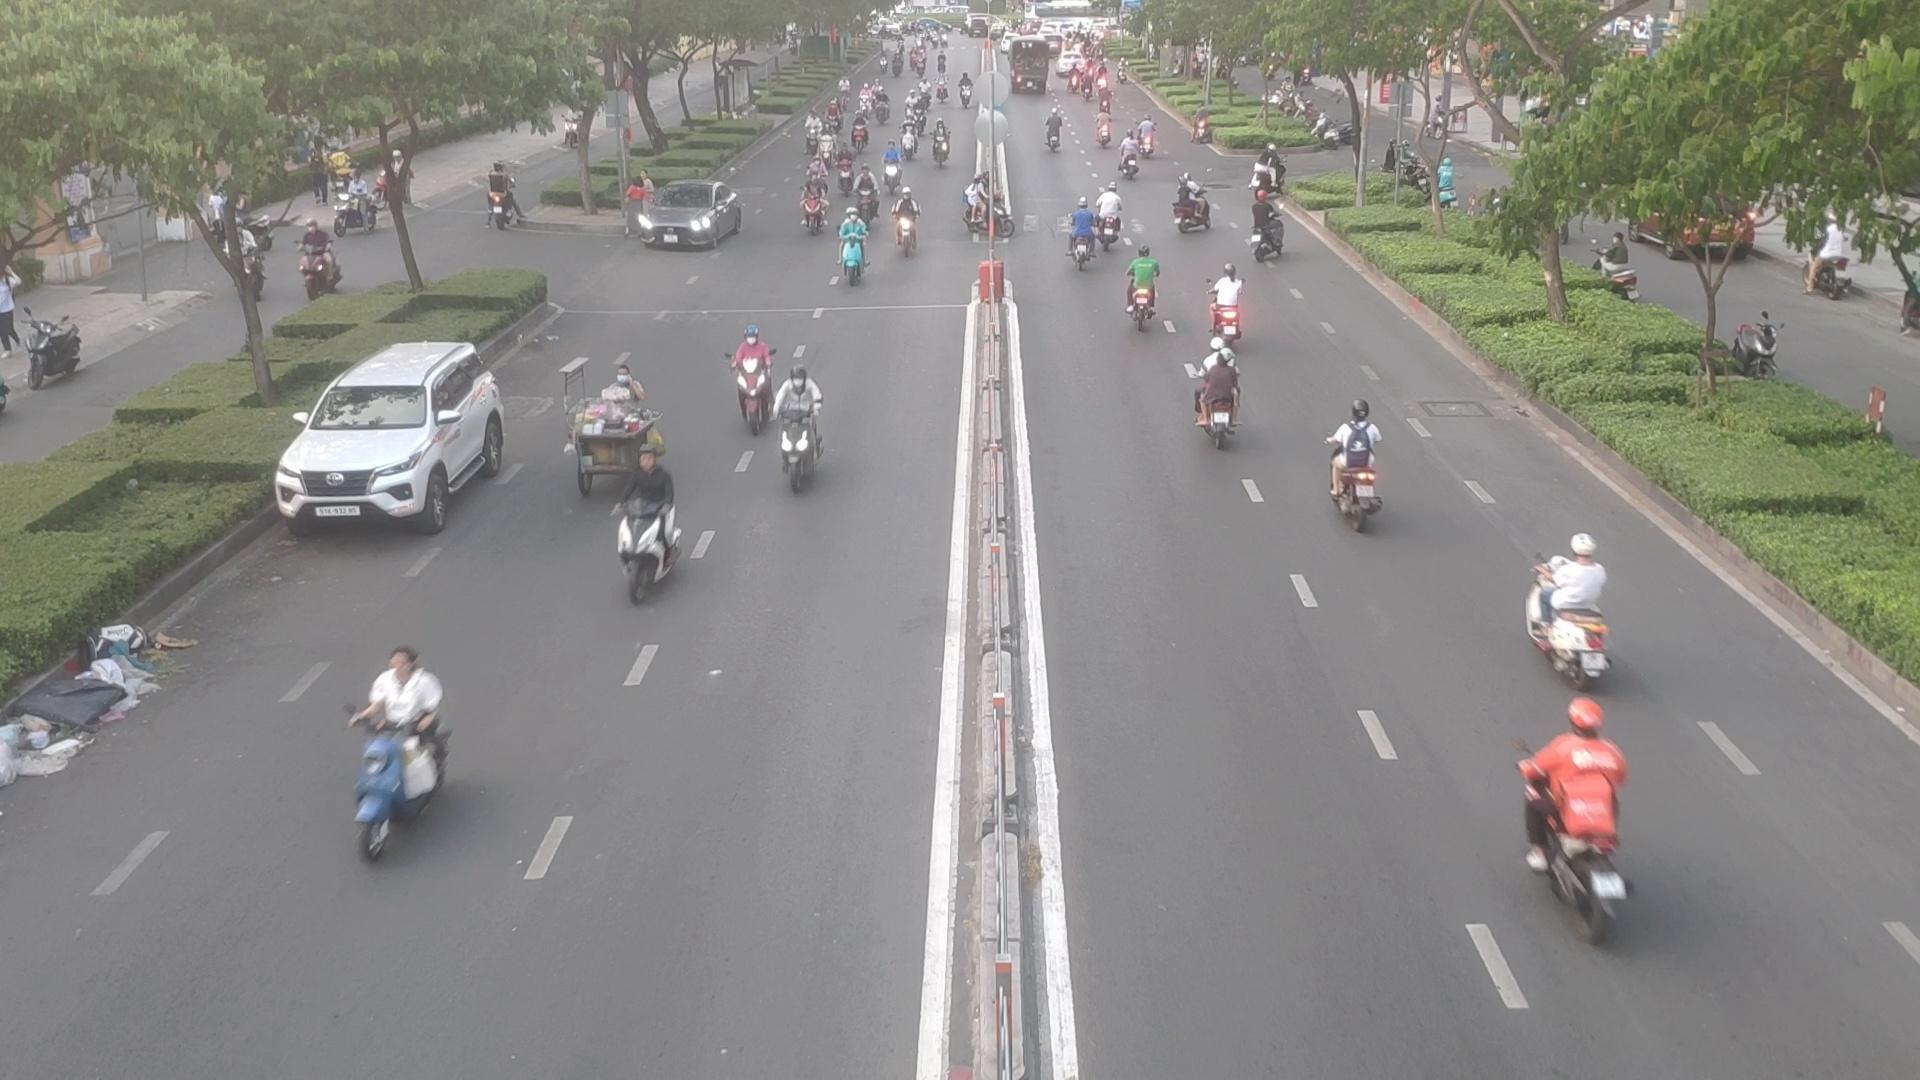car: (280, 338, 520, 526), (625, 185, 756, 255)
motorbike: (1505, 717, 1638, 924), (334, 646, 454, 849), (1523, 538, 1619, 675), (608, 455, 700, 597), (764, 361, 844, 492), (1323, 407, 1393, 524), (1193, 342, 1253, 444), (723, 324, 778, 429), (968, 174, 1025, 244), (1124, 252, 1171, 334), (1207, 272, 1255, 351), (1062, 196, 1112, 272), (829, 215, 877, 290), (1075, 193, 1122, 260), (1247, 195, 1295, 262), (895, 173, 927, 266), (1171, 181, 1213, 233), (798, 185, 835, 236), (1118, 142, 1145, 182)
